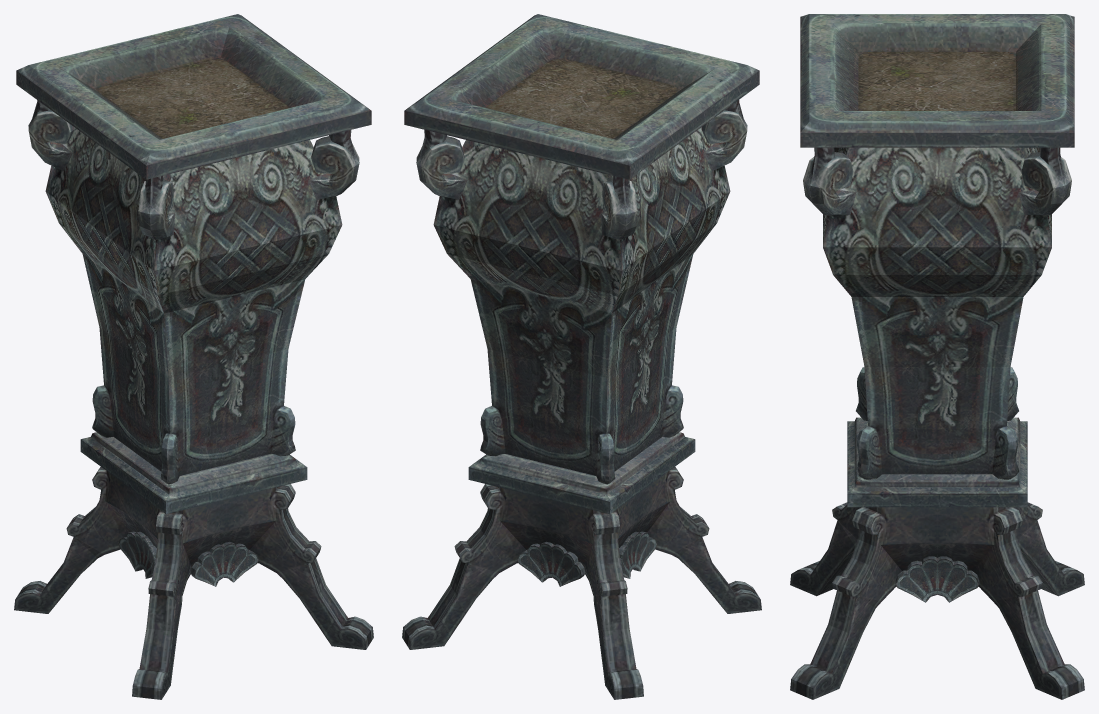
File: bg_lut_lucastle_decoprop04a_sm_msj.FBX
3 views of the same model, side by side, from view 1: azimuth 30°, elevation 25°; view 2: azimuth 150°, elevation 25°; view 3: azimuth 270°, elevation 25° (orthographic). The views are drawn at different scales.
Visible parts, largest first — view 1: bg_lut_lucastle_decoprop04a_sm_msj; view 2: bg_lut_lucastle_decoprop04a_sm_msj; view 3: bg_lut_lucastle_decoprop04a_sm_msj.
Boxes of the visible parts, bbox=[...] form: bg_lut_lucastle_decoprop04a_sm_msj: bbox=[14, 14, 373, 699]; bg_lut_lucastle_decoprop04a_sm_msj: bbox=[402, 14, 761, 699]; bg_lut_lucastle_decoprop04a_sm_msj: bbox=[790, 14, 1084, 699].
Size of the model in its own units: 75.87 by 162 by 75.87.
